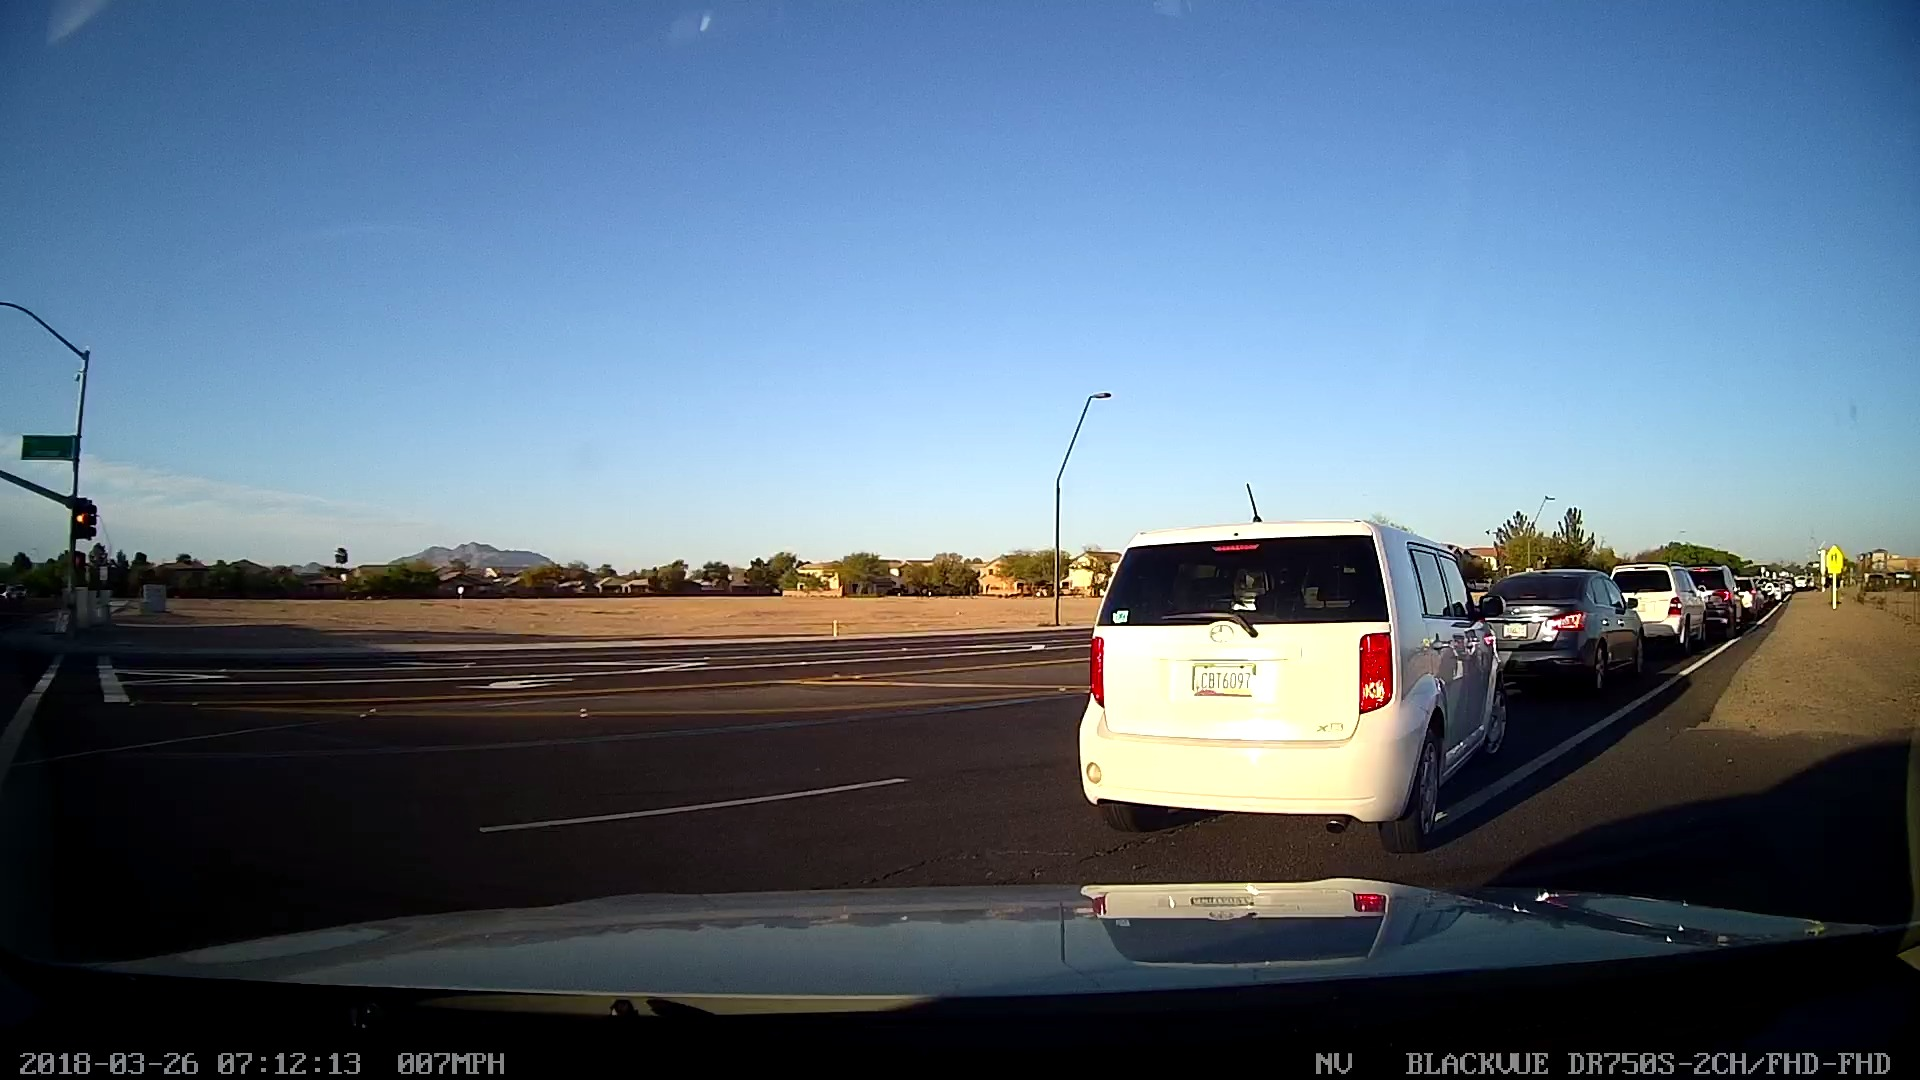plate: (1185, 652, 1258, 699), (1498, 615, 1527, 644)
vehicle: (1077, 522, 1495, 829), (1473, 567, 1649, 673), (1615, 560, 1704, 651), (1694, 566, 1750, 638)
